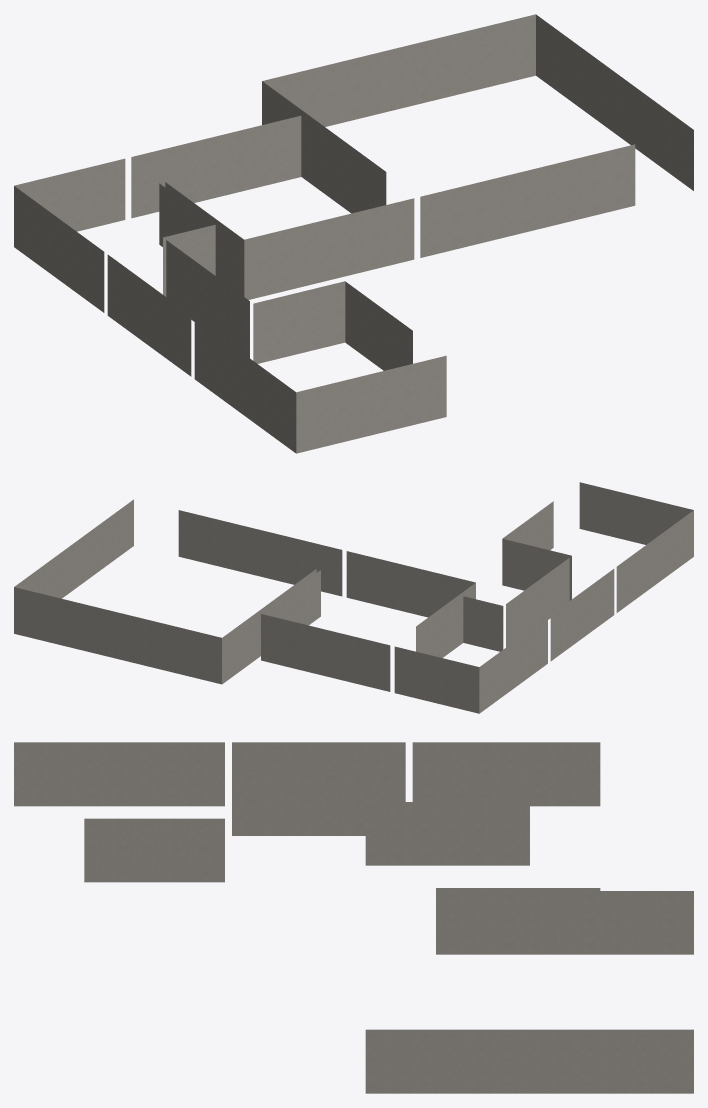
File: tutorialHouse_wall.FBX
3 renders of one model, top to bottom at view 1: azimuth 30°, elevation 25°; view 2: azimuth 150°, elevation 25°; view 3: azimuth 270°, elevation 25°, orthographic. The views are drawn at different scales.
Visible parts, largest first — view 1: wall; view 2: wall; view 3: wall.
Boxes of the visible parts, bbox=[...] form: wall: bbox=[14, 14, 693, 453]; wall: bbox=[14, 482, 693, 713]; wall: bbox=[14, 742, 693, 1093].
Bounding box in the file's own units: 29 × 3 × 29.
Materials: 1 (1 with a texture image).
